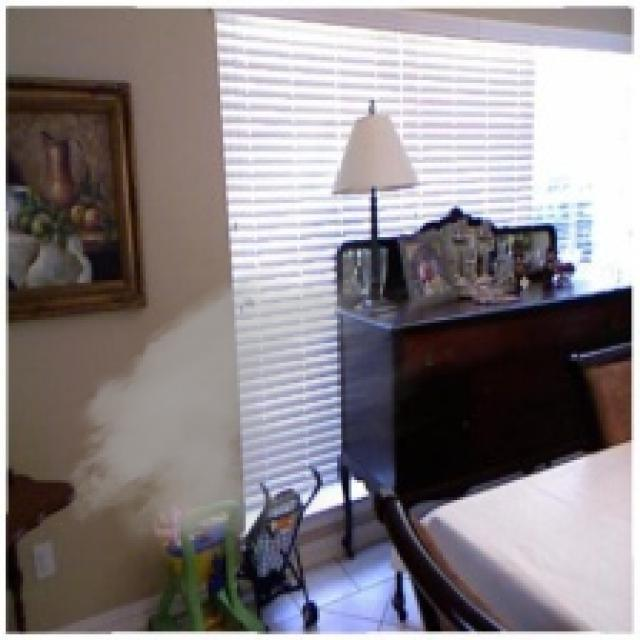Smoke: (54, 232, 454, 577)
